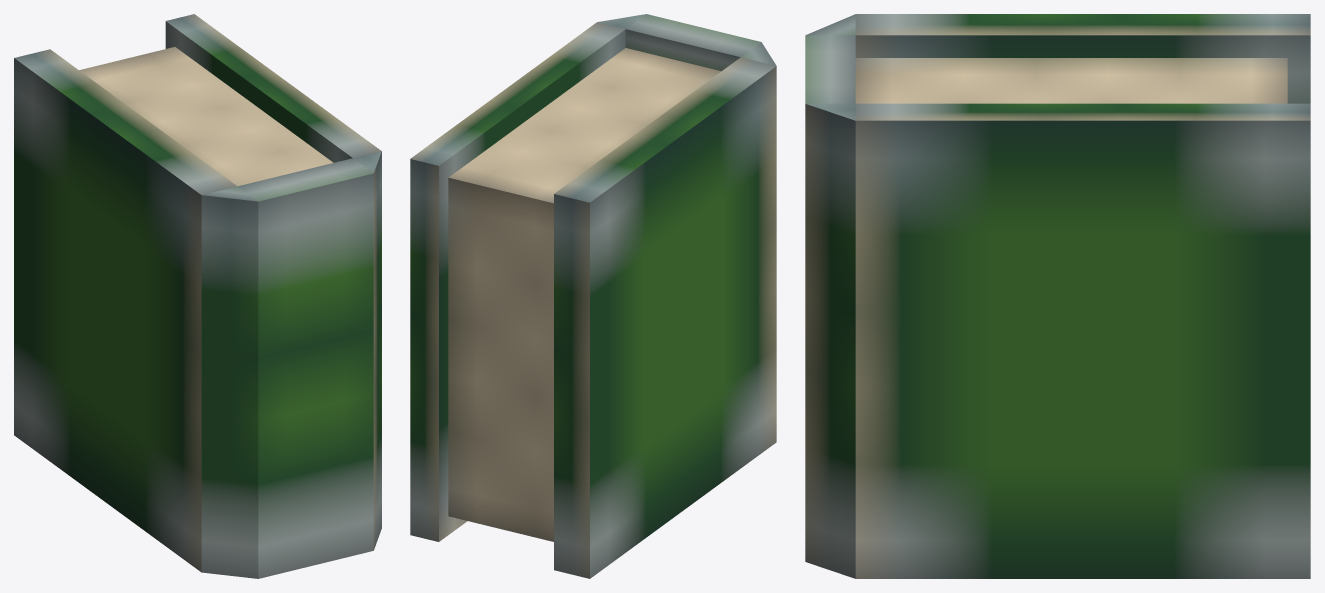
File: BookClosedGreen.fbx
3 views of the same model, side by side, from view 1: azimuth 30°, elevation 25°; view 2: azimuth 150°, elevation 25°; view 3: azimuth 270°, elevation 25° (orthographic). The views are drawn at different scales.
Parts seen in each view (by area): view 1: Book; view 2: Book; view 3: Book.
Part boxes in pixels (bbox=[...]): Book: bbox=[14, 14, 381, 578]; Book: bbox=[410, 14, 776, 578]; Book: bbox=[805, 14, 1310, 578].
Size of the model in its own units: 0.1875 by 0.375 by 0.375.
